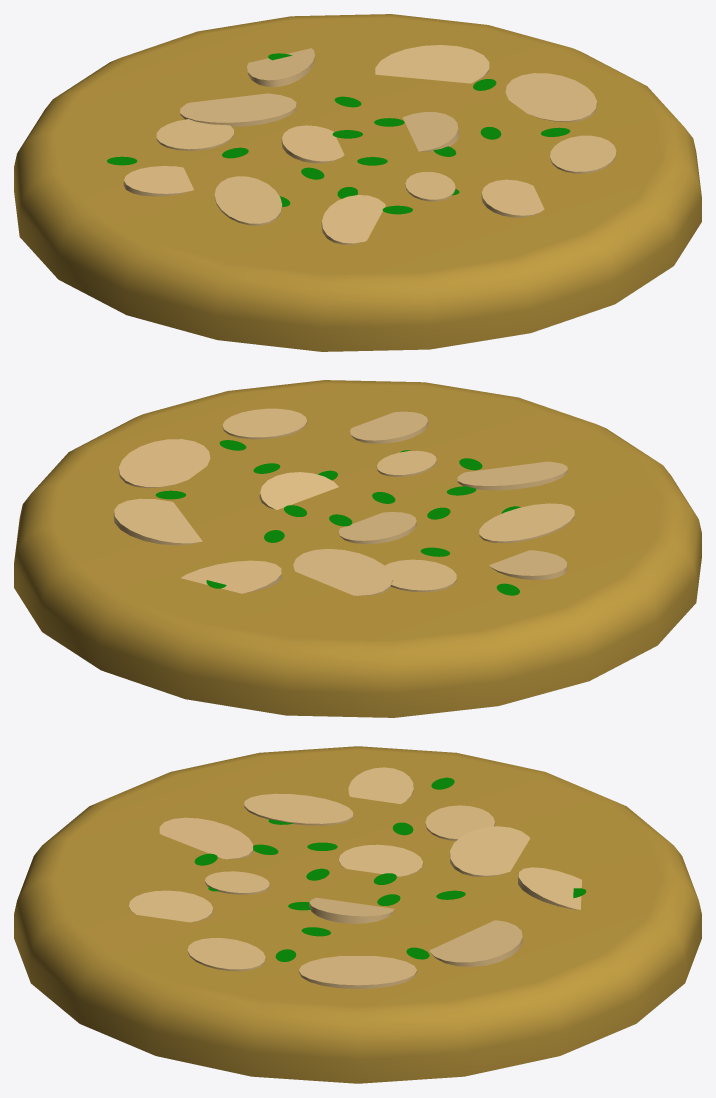
The model's file is cooked_spanish_omelette.fbx.
3 renders of one model, top to bottom at view 1: azimuth 30°, elevation 25°; view 2: azimuth 150°, elevation 25°; view 3: azimuth 270°, elevation 25°, orthographic.
Visible parts, largest first — view 1: pCylinder1, pCylinder2, pCylinder6, pCylinder3, pCylinder8, pCylinder10, pCylinder13, pCylinder5, pCylinder4, pCylinder7, pCylinder14, pCylinder11 (+2 smaller); view 2: pCylinder1, pCylinder2, pCylinder3, pCylinder6, pCylinder8, pCylinder10, pCylinder11, pCylinder13, pCylinder12, pCylinder5, pCylinder4, pCylinder7 (+2 smaller); view 3: pCylinder1, pCylinder2, pCylinder3, pCylinder6, pCylinder8, pCylinder10, pCylinder4, pCylinder7, pCylinder13, pCylinder11, pCylinder14, pCylinder5 (+2 smaller).
Boxes of the visible parts, bbox=[...] form: pCylinder1: bbox=[14, 14, 701, 351]; pCylinder2: bbox=[505, 73, 597, 122]; pCylinder6: bbox=[375, 45, 489, 83]; pCylinder3: bbox=[180, 93, 296, 126]; pCylinder8: bbox=[214, 176, 282, 225]; pCylinder10: bbox=[321, 195, 385, 244]; pCylinder13: bbox=[550, 135, 616, 173]; pCylinder5: bbox=[156, 119, 233, 150]; pCylinder4: bbox=[481, 179, 544, 217]; pCylinder7: bbox=[281, 125, 344, 163]; pCylinder14: bbox=[123, 166, 193, 196]; pCylinder11: bbox=[247, 48, 315, 86]; pCylinder1: bbox=[14, 380, 701, 717]; pCylinder2: bbox=[118, 439, 210, 488]; pCylinder3: bbox=[293, 549, 392, 595]; pCylinder6: bbox=[113, 498, 202, 545]; pCylinder8: bbox=[479, 503, 574, 543]; pCylinder10: bbox=[457, 461, 567, 490]; pCylinder11: bbox=[181, 560, 281, 593]; pCylinder13: bbox=[222, 408, 307, 439]; pCylinder12: bbox=[259, 472, 338, 509]; pCylinder5: bbox=[385, 559, 456, 592]; pCylinder4: bbox=[349, 411, 428, 443]; pCylinder7: bbox=[338, 512, 416, 544]; pCylinder1: bbox=[14, 746, 701, 1083]; pCylinder2: bbox=[298, 956, 417, 988]; pCylinder3: bbox=[449, 826, 530, 876]; pCylinder6: bbox=[429, 920, 522, 966]; pCylinder8: bbox=[244, 793, 353, 825]; pCylinder10: bbox=[159, 817, 253, 859]; pCylinder4: bbox=[129, 890, 213, 922]; pCylinder7: bbox=[339, 844, 423, 876]; pCylinder13: bbox=[187, 938, 265, 971]; pCylinder11: bbox=[518, 867, 581, 909]; pCylinder14: bbox=[348, 767, 413, 803]; pCylinder5: bbox=[425, 805, 495, 840].
Size of the model in its own units: 2 by 0.2173 by 2.
